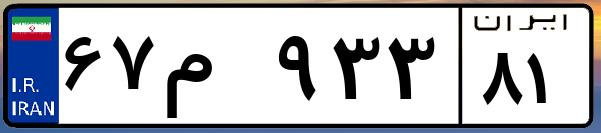1: (525, 38, 570, 115)
3: (385, 28, 445, 110), (330, 28, 385, 110)
6: (57, 26, 110, 100)
7: (110, 28, 158, 98)
8: (475, 38, 525, 113)
9: (270, 28, 330, 110)
م: (158, 20, 270, 120)
